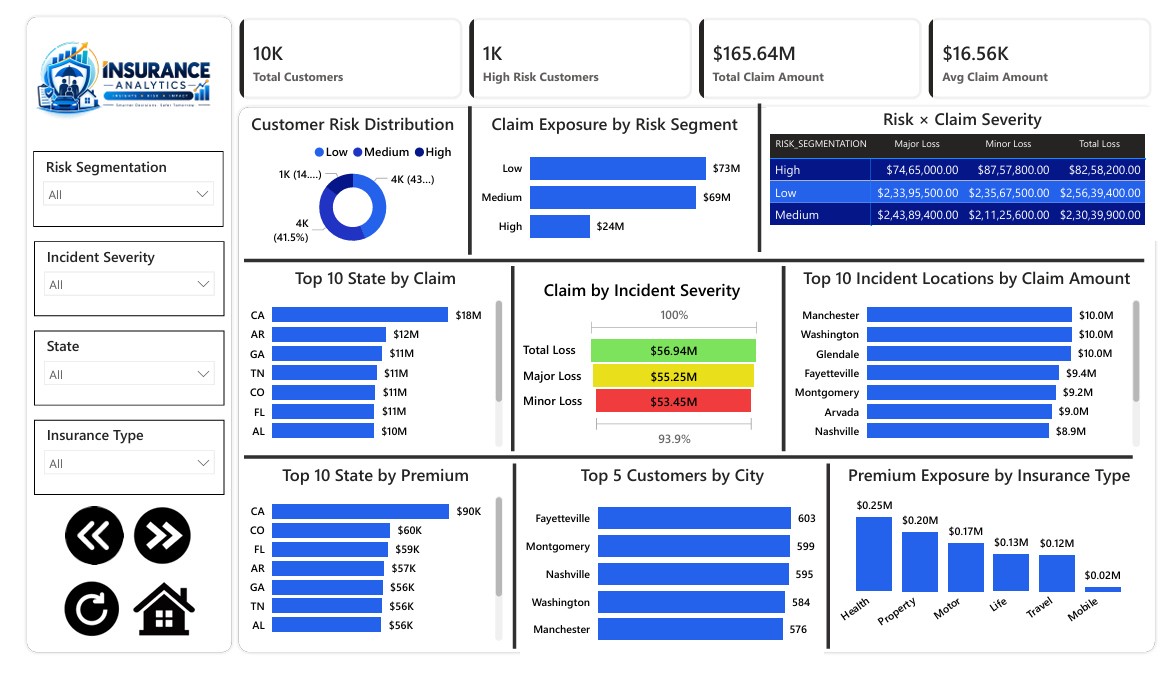

What the dashboard file says about the page in this screenshot:
{"tool":"powerbi","page":{"name":"Customer Analytics","canvas":[1280,720],"ordinal":1},"visuals":[{"type":"shape","box":[0,0,237.6,720.1],"z":0},{"type":"slicer","fields":{"Values":["Insurance.INSURANCE_TYPE"]},"box":[20.5,154.4,213.5,84.5],"z":1000},{"type":"slicer","fields":{"Values":["Insurance.RISK_SEGMENTATION"]},"box":[21.7,254.6,213.5,84.5],"z":2000},{"type":"slicer","fields":{"Values":["Insurance.STATE"]},"box":[21.7,354.7,213.5,84.5],"z":3000},{"type":"slicer","fields":{"Values":["Insurance.SOCIAL_CLASS"]},"box":[21.7,454.8,213.5,84.5],"z":4000},{"type":"cardVisual","fields":{"Data":["Measures .Total Customers","Measures .Average Customer Age","Measures .Average Family Size","Measures .Average Tenure","Measures .Avg Premium Amount"]},"box":[247.8,0,1032.4,102.1],"z":5000},{"type":"shape","box":[246.6,102.1,342.5,617.7],"z":6000},{"type":"columnChart","title":"Customers by Age Group","fields":{"Y":["Measures .Total Customers"],"Category":["Insurance.Age Group"]},"box":[252.8,296.4,323.8,200.5],"z":7000},{"type":"donutChart","title":"Customers by Employment","fields":{"Y":["Measures .Total Customers"],"Category":["Insurance.EMPLOYMENT_STATUS"]},"box":[252.8,510.6,323.8,199.3],"z":8000},{"type":"clusteredBarChart","title":"Top 10 Customers by City","fields":{"Y":["Measures .Total Customers"],"Category":["Insurance.CITY"]},"box":[254.1,110.8,322.6,178.1],"z":9000},{"type":"shape","box":[591.6,102.1,683.7,617.7],"z":10000},{"type":"columnChart","title":"Customers by Social Class","fields":{"Category":["Insurance.SOCIAL_CLASS"],"Y":["Measures .Total Customers"]},"box":[599.5,497.3,242.5,214.2],"z":11000},{"type":"funnel","title":"Premium Contribution by Social Class","fields":{"Category":["Insurance.SOCIAL_CLASS"],"Y":["Measures .Total Premium Amount"]},"box":[599,110.8,384.8,209.2],"z":12000},{"type":"pieChart","title":"Customer Risk Distribution","fields":{"Y":["Measures .Total Customers"],"Category":["Insurance.RISK_SEGMENTATION"]},"box":[1001.3,110.8,269,209.2],"z":13000},{"type":"barChart","title":"Claims by Risk Segment","fields":{"Category":["Insurance.RISK_SEGMENTATION"],"Y":["Measures .Total Claim Amount"]},"box":[599,336.2,301.4,144.5],"z":14000},{"type":"columnChart","title":"Customer Education Profile","fields":{"Category":["Insurance.CUSTOMER_EDUCATION_LEVEL"],"Y":["Measures .Total Customers"]},"box":[854.3,496.9,416,222.9],"z":15000},{"type":"barChart","title":"Customers by Familiy Size","fields":{"Y":["Measures .Total Customers"],"Category":["Insurance.Family Size Group"]},"box":[912.9,336.2,357.4,144.5],"z":16000},{"type":"image","box":[8.8,5,226.2,141.2],"z":17000},{"type":"shape","box":[591.6,320.1,678.7,16.2],"z":18000},{"type":"shape","box":[592.8,480.7,678.7,16.2],"z":19000},{"type":"shape","box":[250.3,288.9,317.6,7.5],"z":20000},{"type":"shape","box":[259,503.1,317.6,7.5],"z":21000},{"type":"shape","box":[983.9,110.8,17.4,209.2],"z":22000},{"type":"shape","box":[904.1,336.2,8.7,144.5],"z":23000},{"type":"shape","box":[841.9,496.9,12.4,220.4],"z":24000},{"type":"actionButton","box":[128.4,549,74.6,70.9],"z":25000},{"type":"actionButton","box":[77,620,83.2,84.4],"z":26000},{"type":"actionButton","box":[57.5,549,64.8,70.9],"z":27000}]}

Visuals, with their boxes in screenshot pixels (x1, y1, x2, y2), scaled from the page's 1280x720 canvas onto the 1171x675 screenshot:
shape: BBox(0, 0, 217, 674)
slicer - Insurance.INSURANCE_TYPE: BBox(19, 145, 214, 224)
slicer - Insurance.RISK_SEGMENTATION: BBox(20, 239, 215, 318)
slicer - Insurance.STATE: BBox(20, 333, 215, 412)
slicer - Insurance.SOCIAL_CLASS: BBox(20, 426, 215, 506)
cardVisual - Measures .Total Customers x Measures .Average Customer Age: BBox(227, 0, 1170, 96)
shape: BBox(226, 96, 539, 674)
"Customers by Age Group" columnChart: BBox(231, 278, 527, 466)
"Customers by Employment" donutChart: BBox(231, 479, 527, 666)
"Top 10 Customers by City" clusteredBarChart: BBox(232, 104, 528, 271)
shape: BBox(541, 96, 1167, 674)
"Customers by Social Class" columnChart: BBox(548, 466, 770, 667)
"Premium Contribution by Social Class" funnel: BBox(548, 104, 900, 300)
"Customer Risk Distribution" pieChart: BBox(916, 104, 1162, 300)
"Claims by Risk Segment" barChart: BBox(548, 315, 824, 451)
"Customer Education Profile" columnChart: BBox(782, 466, 1162, 674)
"Customers by Familiy Size" barChart: BBox(835, 315, 1162, 451)
image: BBox(8, 5, 215, 137)
shape: BBox(541, 300, 1162, 315)
shape: BBox(542, 451, 1163, 466)
shape: BBox(229, 271, 520, 278)
shape: BBox(237, 472, 527, 479)
shape: BBox(900, 104, 916, 300)
shape: BBox(827, 315, 835, 451)
shape: BBox(770, 466, 782, 672)
actionButton: BBox(117, 515, 186, 581)
actionButton: BBox(70, 581, 147, 660)
actionButton: BBox(53, 515, 112, 581)
